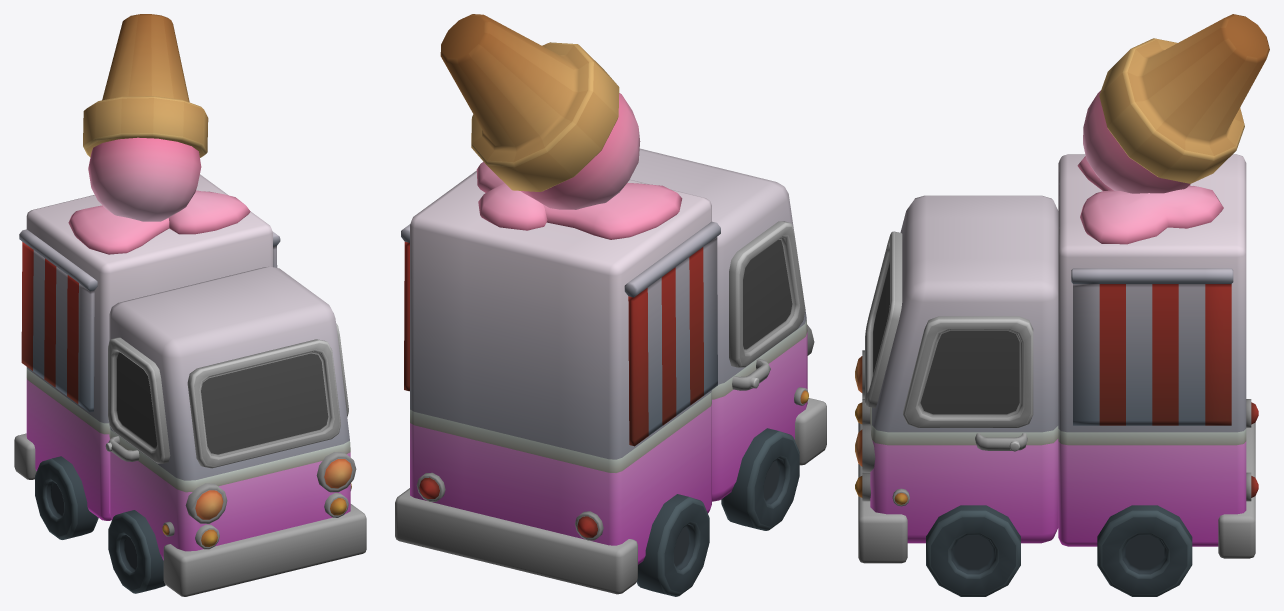
The model's file is mct_car_13.fbx.
3 renders of one model, left to right at view 1: azimuth 30°, elevation 25°; view 2: azimuth 150°, elevation 25°; view 3: azimuth 270°, elevation 25°, orthographic. The views are drawn at different scales.
Parts seen in each view (by area): view 1: mct_car_13, mct_car_13_w; view 2: mct_car_13, mct_car_13_w; view 3: mct_car_13, mct_car_13_w.
Boxes of the visible parts, <box> form: mct_car_13: <box>14,14,366,596</box>; mct_car_13_w: <box>35,456,165,593</box>; mct_car_13: <box>395,14,826,594</box>; mct_car_13_w: <box>636,428,799,596</box>; mct_car_13: <box>855,14,1269,563</box>; mct_car_13_w: <box>926,505,1192,596</box>.
Bounding box in the file's own units: 130 × 284 × 197.
